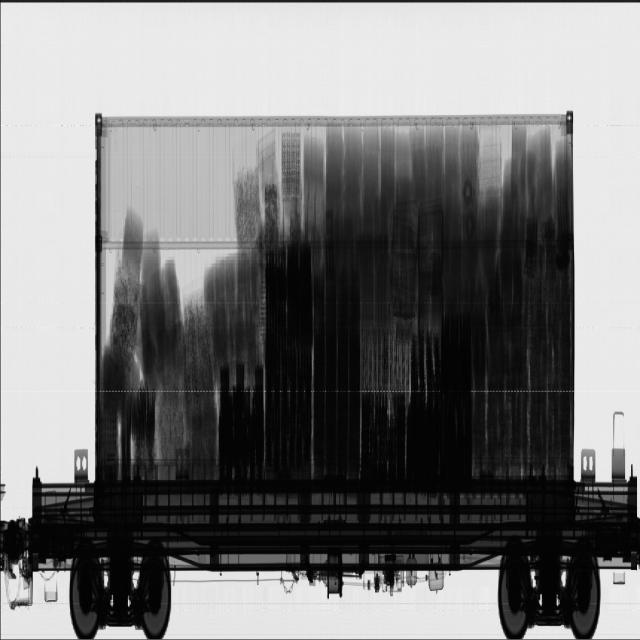textiles: (110, 158, 261, 468), (303, 122, 572, 266)
